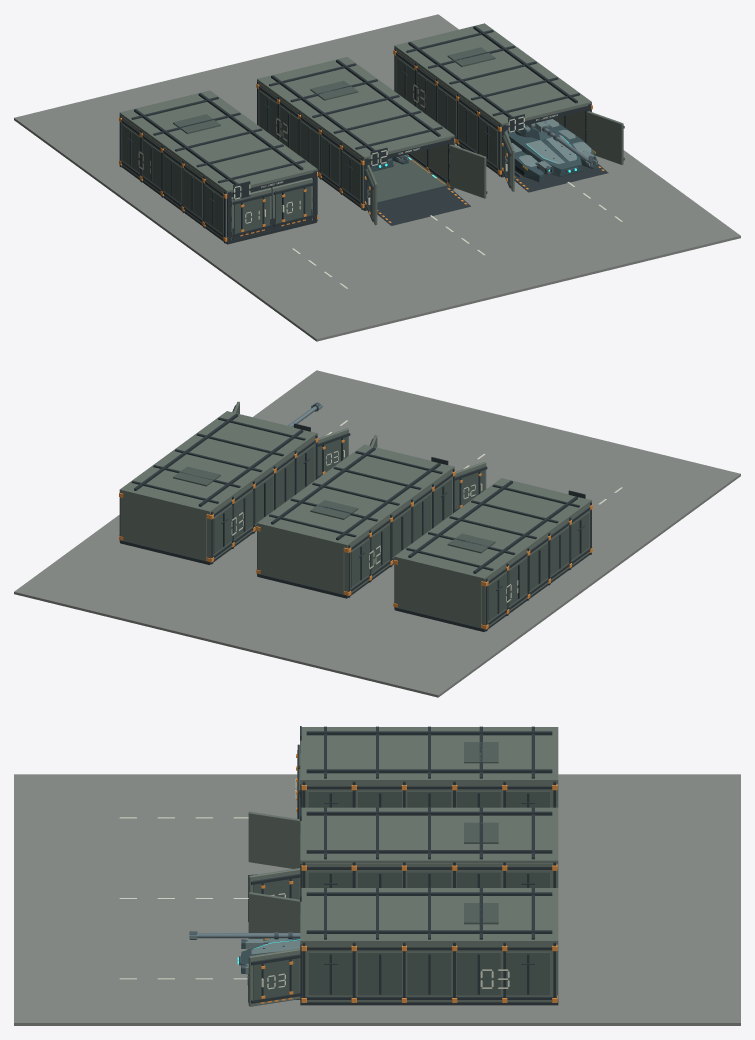
The model's file is mork_container_diorama.glb.
The picture shows the model from 3 angles, top to bottom: view 1: azimuth 30°, elevation 25°; view 2: azimuth 150°, elevation 25°; view 3: azimuth 270°, elevation 25°; orthographic projection. The views are drawn at different scales.
Visible parts, largest first — view 1: Geometry_ROOT.003_Fractured geopolymer, Geometry_ROOF_01.001_Transport / armored olive, Geometry_ROOF_02.001_Transport / armored olive, Geometry_ROOF_03_Transport / armored olive, Geometry_SHELL_02.001_Transport / inset panels, Geometry_SHELL_01.001_Transport / graphite frame, Geometry_SHELL_01.001_Transport / inset panels, Geometry_SHELL_03_Transport / inset panels, Geometry_SHELL_02.001_Transport / graphite frame, Geometry_SHELL_03_Transport / graphite frame, Geometry_ROOF_01.001_Transport / graphite frame, Geometry_ROOF_03_Transport / graphite frame (+15 smaller); view 2: Geometry_ROOT.003_Fractured geopolymer, Geometry_ROOF_01.001_Transport / armored olive, Geometry_ROOF_02.001_Transport / armored olive, Geometry_ROOF_03_Transport / armored olive, Geometry_SHELL_01.001_Transport / armored olive, Geometry_SHELL_03_Transport / armored olive, Geometry_SHELL_02.001_Transport / armored olive, Geometry_SHELL_01.001_Transport / inset panels, Geometry_SHELL_02.001_Transport / inset panels, Geometry_SHELL_03_Transport / inset panels, Geometry_SHELL_01.001_Transport / graphite frame, Geometry_ROOF_02.001_Transport / graphite frame (+9 smaller); view 3: Geometry_ROOT.003_Fractured geopolymer, Geometry_ROOF_02.001_Transport / armored olive, Geometry_ROOF_01.001_Transport / armored olive, Geometry_ROOF_03_Transport / armored olive, Geometry_SHELL_03_Transport / inset panels, Geometry_SHELL_03_Transport / graphite frame, Geometry_SHELL_03_Transport / armored olive, Geometry_SHELL_01.001_Transport / inset panels, Geometry_SHELL_02.001_Transport / inset panels, Geometry_ROOF_01.001_Transport / graphite frame, Geometry_ROOF_02.001_Transport / graphite frame, Geometry_ROOF_03_Transport / graphite frame (+15 smaller).
Part boxes in pixels (x1,y1,x2,y2): Geometry_ROOT.003_Fractured geopolymer: (14,14,740,341); Geometry_ROOF_01.001_Transport / armored olive: (119,90,317,193); Geometry_ROOF_02.001_Transport / armored olive: (257,57,454,160); Geometry_ROOF_03_Transport / armored olive: (394,23,591,126); Geometry_SHELL_02.001_Transport / inset panels: (259,91,446,202); Geometry_SHELL_01.001_Transport / graphite frame: (119,114,317,244); Geometry_SHELL_01.001_Transport / inset panels: (122,124,223,233); Geometry_SHELL_03_Transport / inset panels: (397,57,497,166); Geometry_SHELL_02.001_Transport / graphite frame: (257,81,454,210); Geometry_SHELL_03_Transport / graphite frame: (394,47,591,177); Geometry_ROOF_01.001_Transport / graphite frame: (131,93,305,184); Geometry_ROOF_03_Transport / graphite frame: (406,26,579,117); Geometry_ROOT.003_Fractured geopolymer: (14,370,740,697); Geometry_ROOF_01.001_Transport / armored olive: (394,478,591,581); Geometry_ROOF_02.001_Transport / armored olive: (257,444,454,548); Geometry_ROOF_03_Transport / armored olive: (119,411,317,514); Geometry_SHELL_01.001_Transport / armored olive: (394,504,590,627); Geometry_SHELL_03_Transport / armored olive: (120,437,315,560); Geometry_SHELL_02.001_Transport / armored olive: (257,471,452,594); Geometry_SHELL_01.001_Transport / inset panels: (488,512,589,620); Geometry_SHELL_02.001_Transport / inset panels: (351,478,451,587); Geometry_SHELL_03_Transport / inset panels: (213,445,314,553); Geometry_SHELL_01.001_Transport / graphite frame: (394,490,592,631); Geometry_ROOF_02.001_Transport / graphite frame: (269,447,442,540); Geometry_ROOT.003_Fractured geopolymer: (14,774,740,1025); Geometry_ROOF_02.001_Transport / armored olive: (300,807,558,864); Geometry_ROOF_01.001_Transport / armored olive: (300,727,558,783); Geometry_ROOF_03_Transport / armored olive: (300,888,558,944); Geometry_SHELL_03_Transport / inset panels: (308,952,549,995); Geometry_SHELL_03_Transport / graphite frame: (300,887,558,1005); Geometry_SHELL_03_Transport / armored olive: (302,944,558,1002); Geometry_SHELL_01.001_Transport / inset panels: (308,791,549,807); Geometry_SHELL_02.001_Transport / inset panels: (308,872,549,887); Geometry_ROOF_01.001_Transport / graphite frame: (306,726,552,778); Geometry_ROOF_02.001_Transport / graphite frame: (306,807,552,859); Geometry_ROOF_03_Transport / graphite frame: (306,887,552,939).
Size of the model in its own units: 34 by 4.6 by 42.
